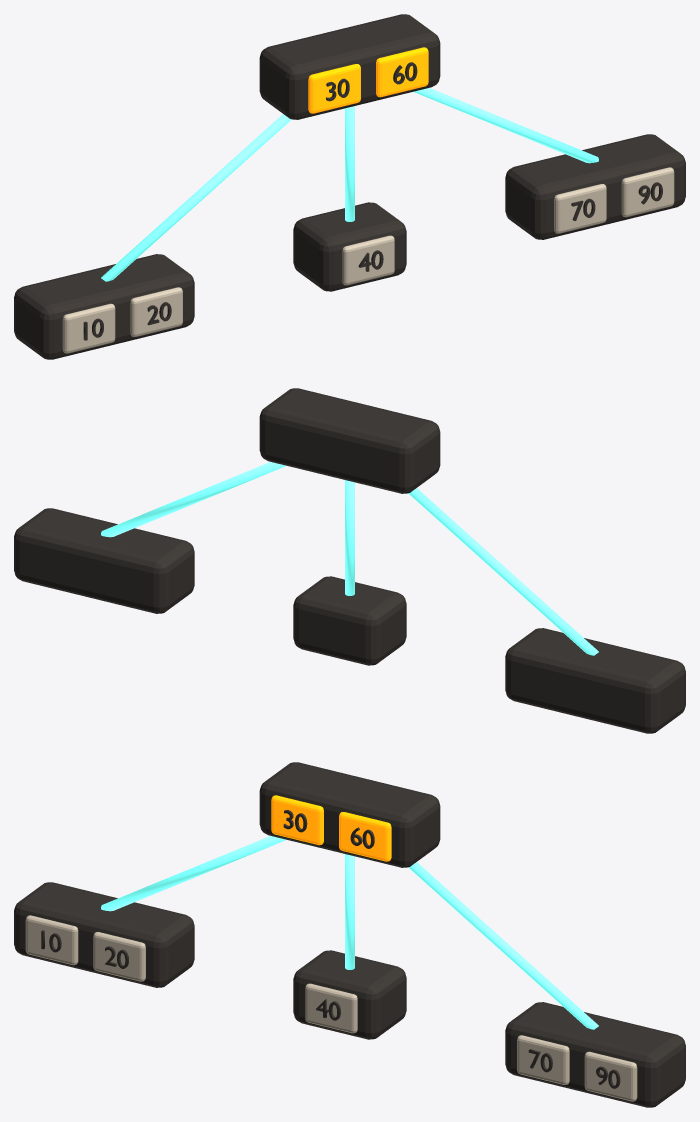
The model's file is tree23.glb.
The picture shows the model from 3 angles, top to bottom: view 1: azimuth 30°, elevation 25°; view 2: azimuth 150°, elevation 25°; view 3: azimuth 330°, elevation 25°; orthographic projection.
Parts seen in each view (by area): view 1: Root, C, A, B, E0, E2, A_k0, C_k1, C_k0, Root_k0, B_k0, A_k1 (+2 smaller); view 2: Root, C, A, B, E0, E2, E1; view 3: Root, A, C, B, E2, E0, A_k0, C_k0, C_k1, A_k1, Root_k0, B_k0 (+2 smaller).
Part boxes in pixels (x1=…): Root: x1=259, y1=14, x2=440, y2=119; C: x1=505, y1=134, x2=685, y2=239; A: x1=14, y1=254, x2=194, y2=359; B: x1=293, y1=202, x2=406, y2=291; E0: x1=101, y1=114, x2=291, y2=281; E2: x1=413, y1=88, x2=598, y2=163; A_k0: x1=62, y1=303, x2=115, y2=353; C_k1: x1=621, y1=167, x2=674, y2=217; C_k0: x1=554, y1=184, x2=606, y2=233; Root_k0: x1=308, y1=64, x2=360, y2=113; B_k0: x1=342, y1=235, x2=394, y2=285; A_k1: x1=130, y1=287, x2=182, y2=336; Root: x1=259, y1=388, x2=440, y2=493; C: x1=14, y1=508, x2=194, y2=613; A: x1=505, y1=628, x2=685, y2=733; B: x1=293, y1=576, x2=406, y2=665; E0: x1=408, y1=488, x2=598, y2=655; E2: x1=101, y1=462, x2=286, y2=537; E1: x1=345, y1=480, x2=354, y2=595; Root: x1=259, y1=762, x2=440, y2=867; A: x1=14, y1=882, x2=194, y2=987; C: x1=505, y1=1002, x2=685, y2=1107; B: x1=293, y1=950, x2=406, y2=1039; E2: x1=408, y1=862, x2=598, y2=1029; E0: x1=101, y1=836, x2=286, y2=911; A_k0: x1=25, y1=915, x2=78, y2=965; C_k0: x1=517, y1=1035, x2=569, y2=1084; C_k1: x1=584, y1=1051, x2=637, y2=1101; A_k1: x1=93, y1=932, x2=145, y2=981; Root_k0: x1=271, y1=795, x2=323, y2=845; B_k0: x1=305, y1=983, x2=357, y2=1033.
Bounding box in the file's own units: 5.25 × 1.82 × 0.56.
